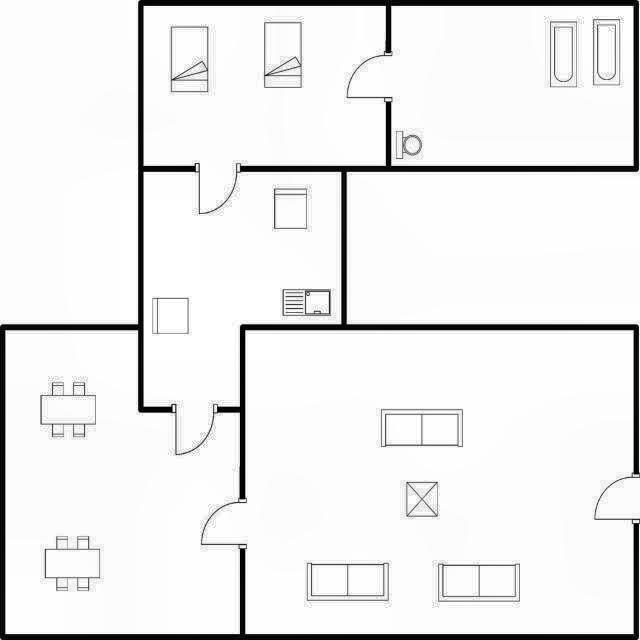room: (246, 330, 633, 634), (5, 330, 240, 634), (143, 172, 341, 407), (143, 6, 386, 165), (391, 6, 633, 165)
